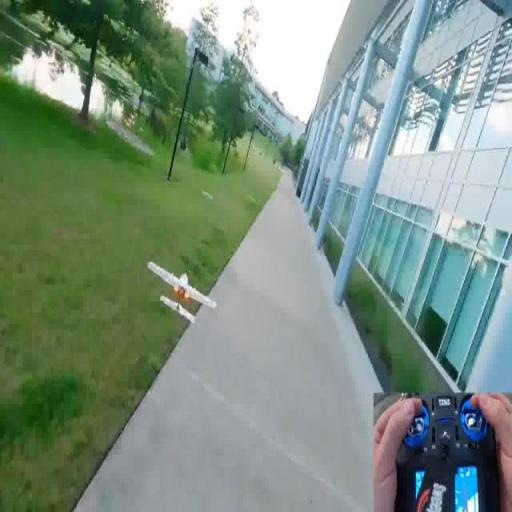uav: (144, 254, 224, 324)
